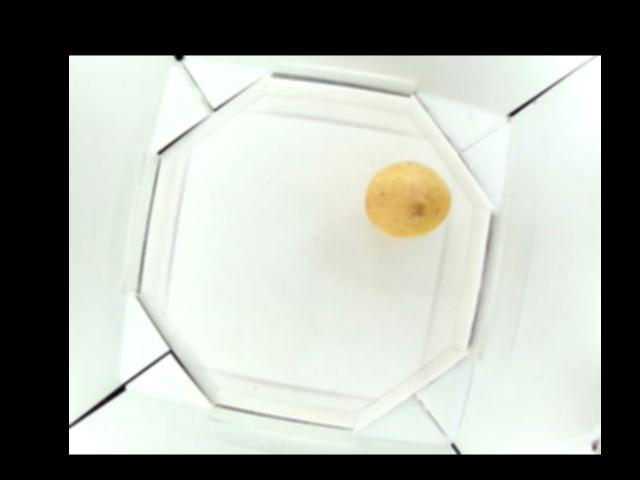Potato: (368, 160, 451, 236)
